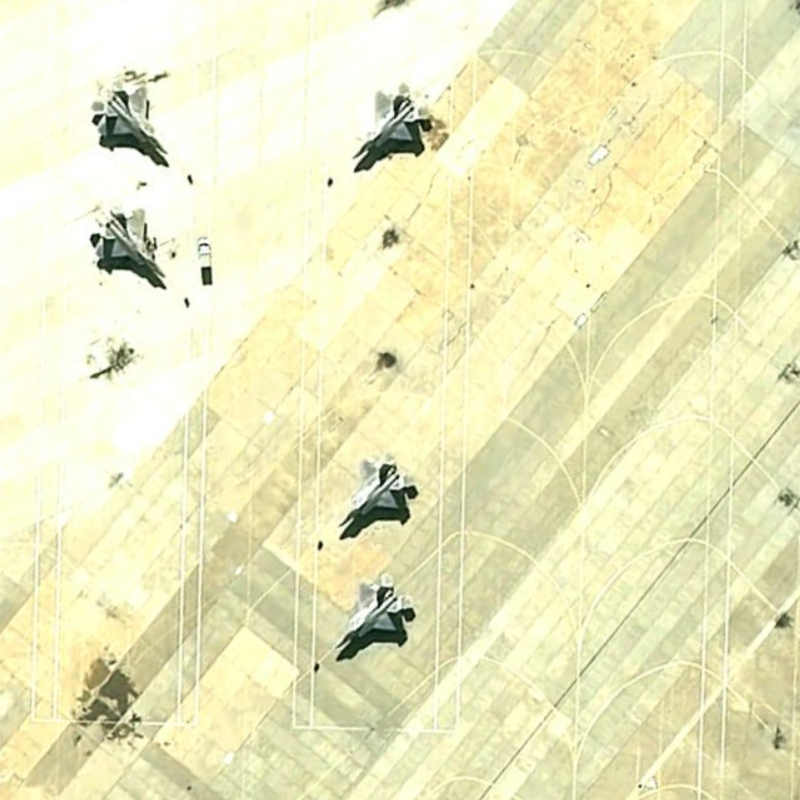A15: (326, 569, 420, 658), (83, 73, 174, 164), (347, 78, 439, 166), (332, 451, 421, 541), (83, 199, 171, 287)
